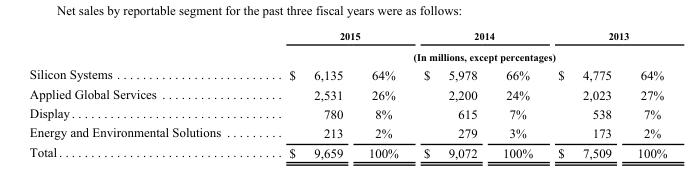table: (28, 29, 666, 159)
table column: (28, 29, 254, 159), (254, 29, 355, 159), (410, 29, 489, 159), (544, 29, 623, 159), (355, 29, 410, 159), (489, 29, 544, 159), (623, 29, 666, 159)
table column header: (28, 29, 666, 84)
table row: (28, 122, 666, 142), (28, 46, 666, 65), (28, 65, 666, 84), (28, 84, 666, 103), (28, 103, 666, 122), (28, 29, 666, 46), (28, 142, 666, 159)
table spanning cell: (28, 29, 254, 84), (254, 46, 666, 65), (254, 29, 410, 46), (410, 29, 544, 46), (544, 29, 666, 46)
